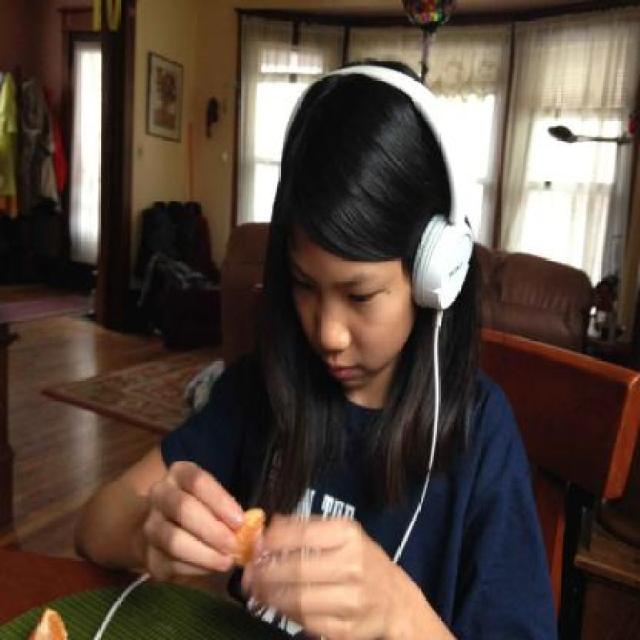earphone: (325, 48, 491, 328)
